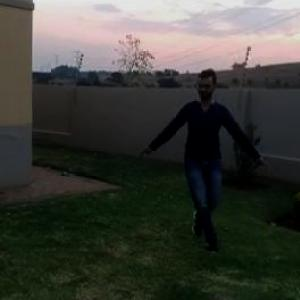land: (147, 61, 269, 258)
